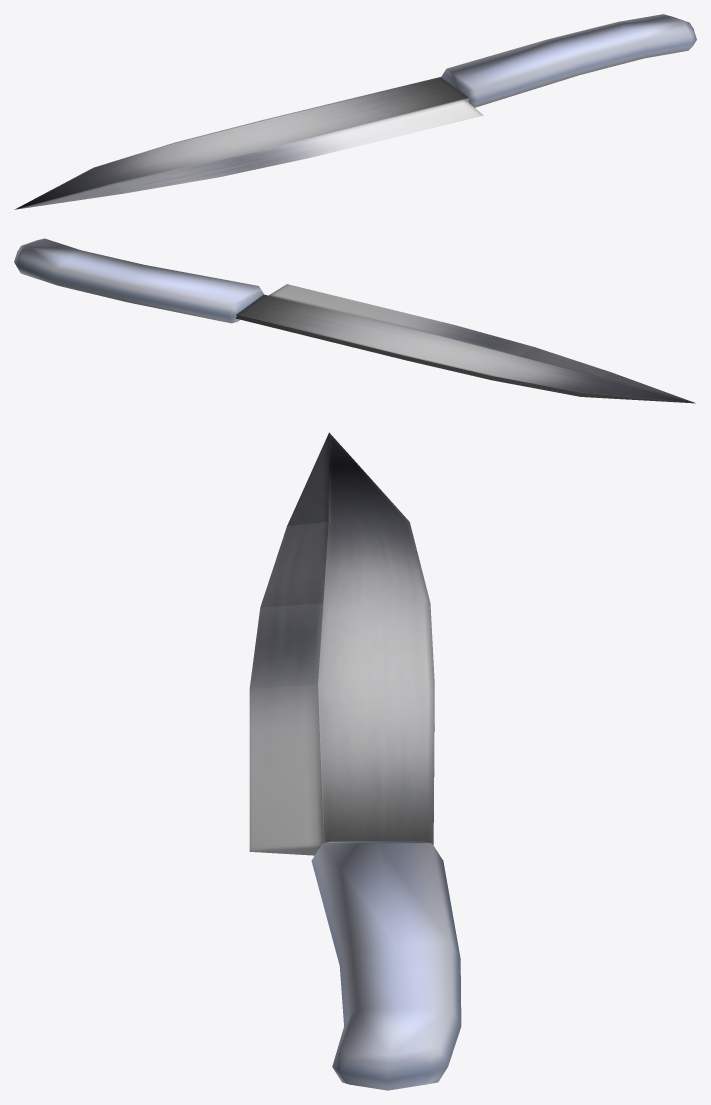
The model's file is TouKuiZheJia_01_xiaodao_01.FBX.
3 renders of one model, top to bottom at view 1: azimuth 30°, elevation 25°; view 2: azimuth 150°, elevation 25°; view 3: azimuth 270°, elevation 25°, orthographic. The views are drawn at different scales.
Visible parts, largest first — view 1: TouKuiZheJia_xiaodao_01; view 2: TouKuiZheJia_xiaodao_01; view 3: TouKuiZheJia_xiaodao_01.
Part boxes in pixels (left/top/right/bottom): TouKuiZheJia_xiaodao_01: left=14, top=14, right=696, bottom=209; TouKuiZheJia_xiaodao_01: left=14, top=238, right=695, bottom=403; TouKuiZheJia_xiaodao_01: left=249, top=432, right=461, bottom=1090.
Bounding box in the file's own units: 250 × 6.26 × 34.53.
